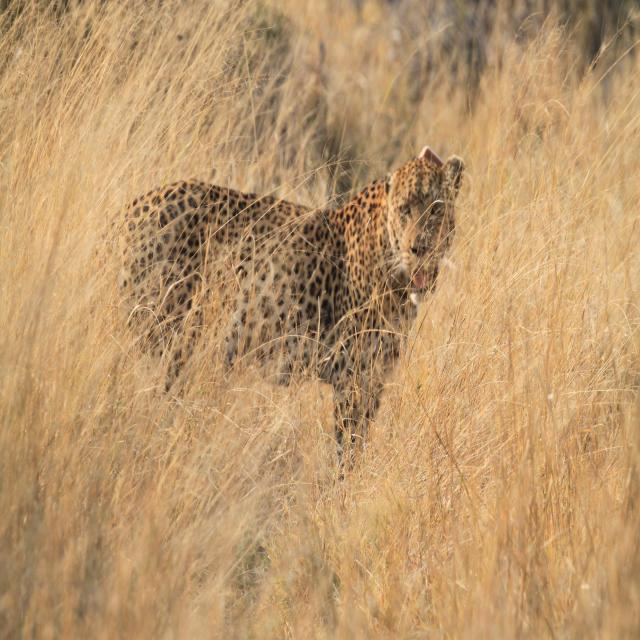Leopard: (34, 137, 480, 476)
